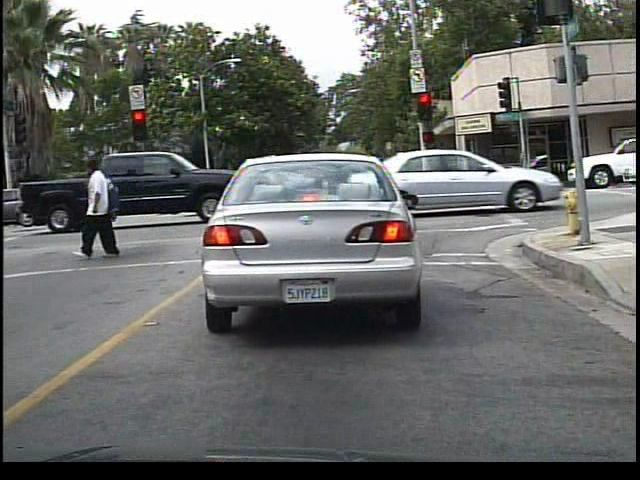person: (78, 155, 129, 257)
